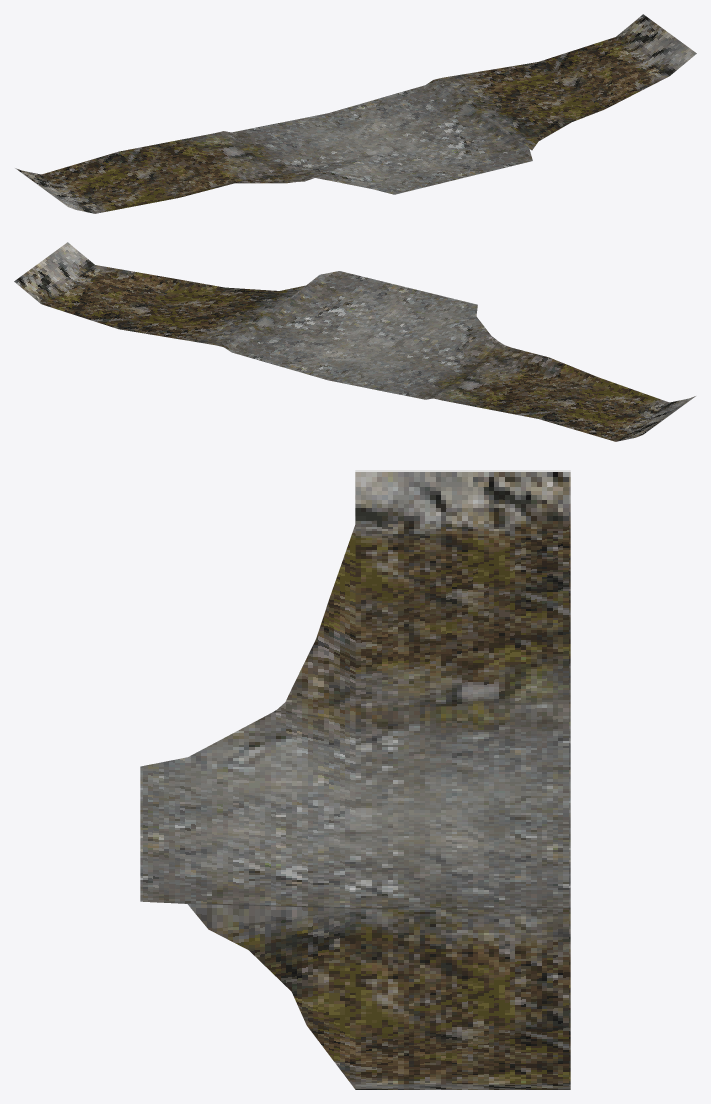
The model's file is 1_road_02_start_uphill.glb.
3 renders of one model, top to bottom at view 1: azimuth 30°, elevation 25°; view 2: azimuth 150°, elevation 25°; view 3: azimuth 270°, elevation 25°, orthographic. The views are drawn at different scales.
Parts seen in each view (by area): view 1: 1_road_02_start_uphill; view 2: 1_road_02_start_uphill; view 3: 1_road_02_start_uphill.
Boxes of the visible parts, bbox=[...] form: 1_road_02_start_uphill: bbox=[15, 14, 696, 213]; 1_road_02_start_uphill: bbox=[14, 242, 695, 441]; 1_road_02_start_uphill: bbox=[140, 470, 570, 1089].
Bounding box in the file's own units: 27.01 × 1.08 × 8.
1 material, 1 textured.
